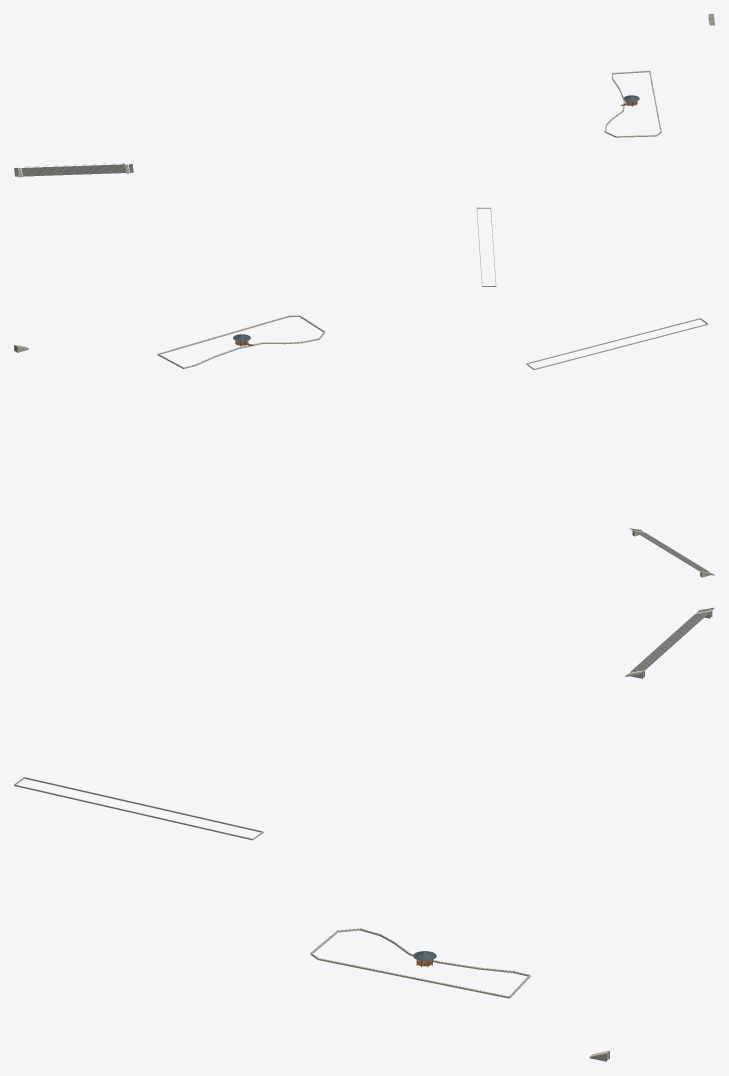
3 views of the same model, one above another, from view 1: azimuth 30°, elevation 25°; view 2: azimuth 150°, elevation 25°; view 3: azimuth 270°, elevation 25° (orthographic). The views are drawn at different scales.
Visible parts, largest first — view 1: open-stand__standTread, open-stand__standRiser, main-water-rill-edge__graniteWarm, open-stand__standNose; view 2: main-water-rill-edge__graniteWarm, open-stand__standTread; view 3: main-water-rill-edge__graniteWarm, open-stand__standTread.
Part boxes in pixels (x1,y1,x2,y2): open-stand__standTread: [14, 164, 133, 176]; open-stand__standRiser: [14, 164, 133, 176]; main-water-rill-edge__graniteWarm: [476, 71, 661, 286]; open-stand__standNose: [14, 164, 132, 176]; main-water-rill-edge__graniteWarm: [158, 315, 708, 369]; open-stand__standTread: [630, 528, 714, 575]; main-water-rill-edge__graniteWarm: [14, 777, 530, 998]; open-stand__standTread: [625, 607, 714, 676].
Bounding box in the file's own units: 530 × 18.2 × 329.
Materials: 14 (1 with a texture image).
